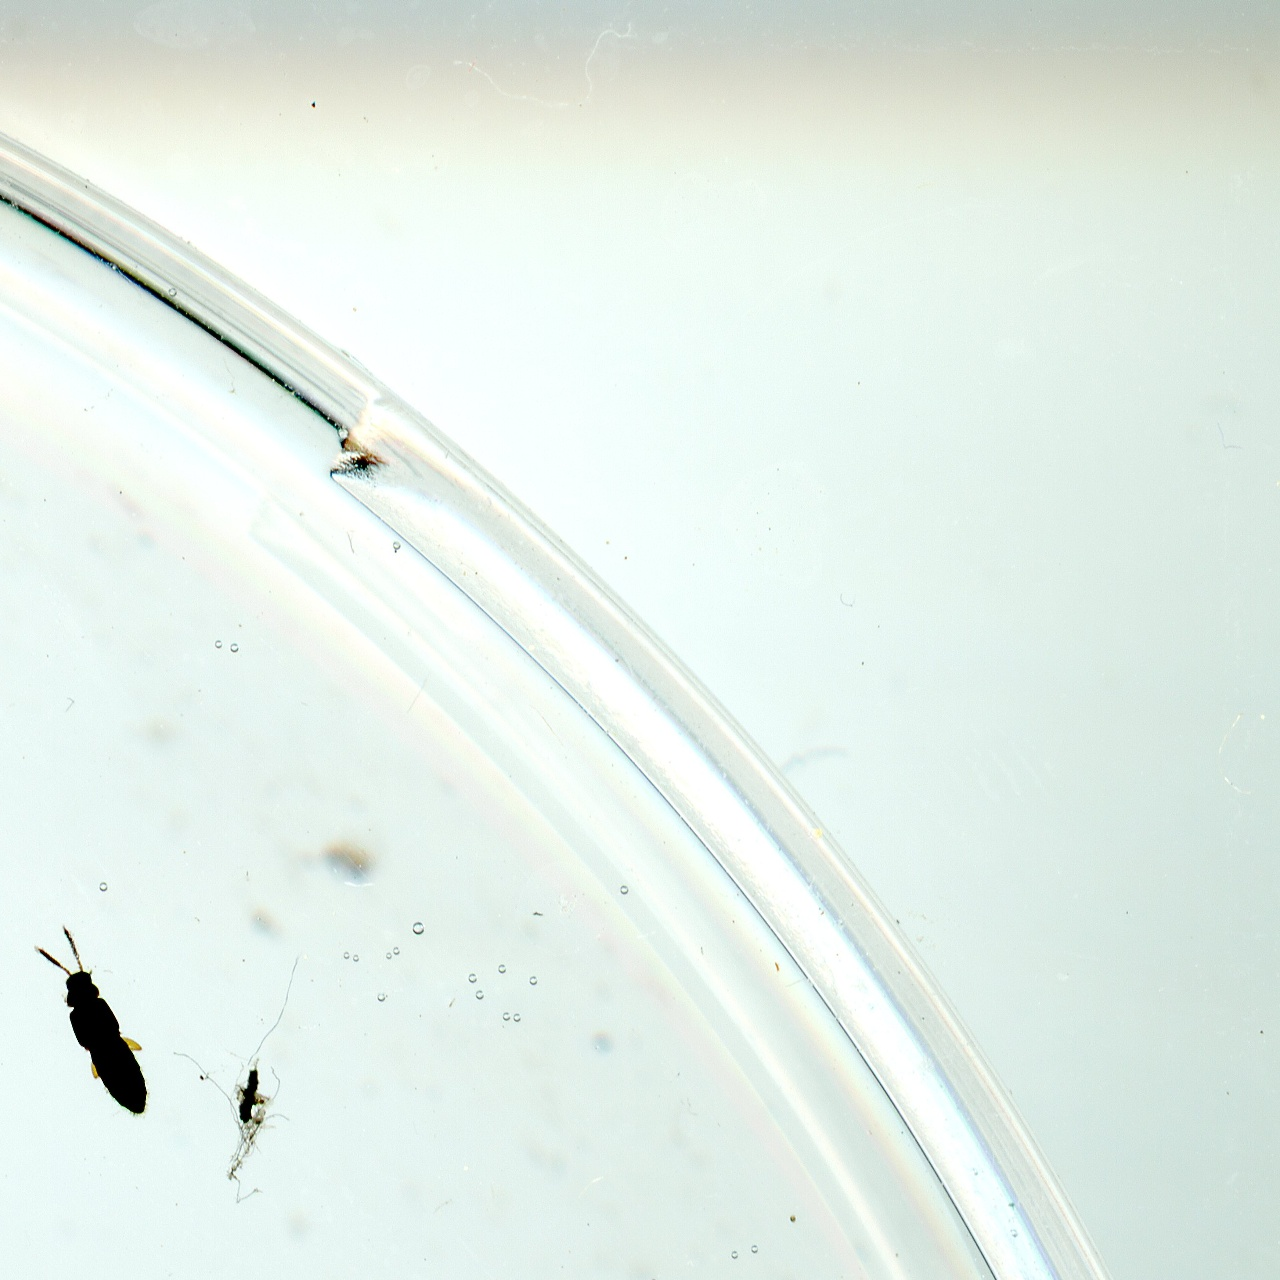arthropod: (11, 903, 179, 1149)
